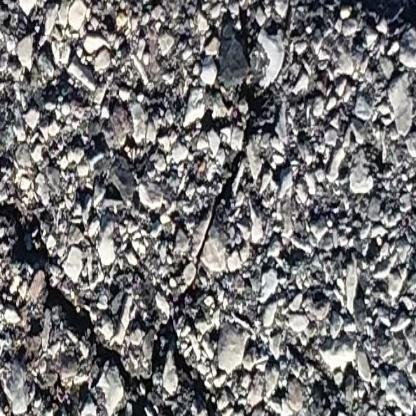Cracks: (0, 177, 229, 416), (141, 81, 329, 215), (295, 0, 416, 64), (235, 0, 269, 50)
